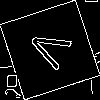V: (25, 25, 81, 76)
